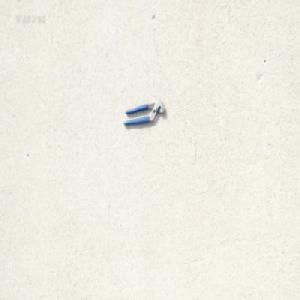Pliers: (122, 98, 166, 127)
